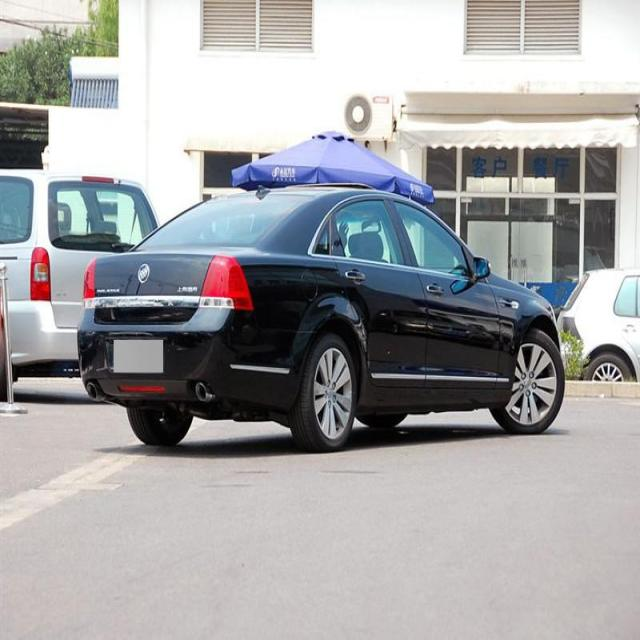back_glass: (130, 190, 320, 252)
back_left_side_light: (82, 255, 99, 300)
back_right_side_light: (198, 250, 254, 312)
door: (337, 204, 425, 400)
front_right_side_door: (388, 193, 505, 396)
front_right_side_mirror: (471, 254, 491, 281)
rear_bumper: (76, 305, 314, 415)
wheel: (487, 329, 565, 430), (289, 335, 357, 447), (124, 405, 194, 447)
